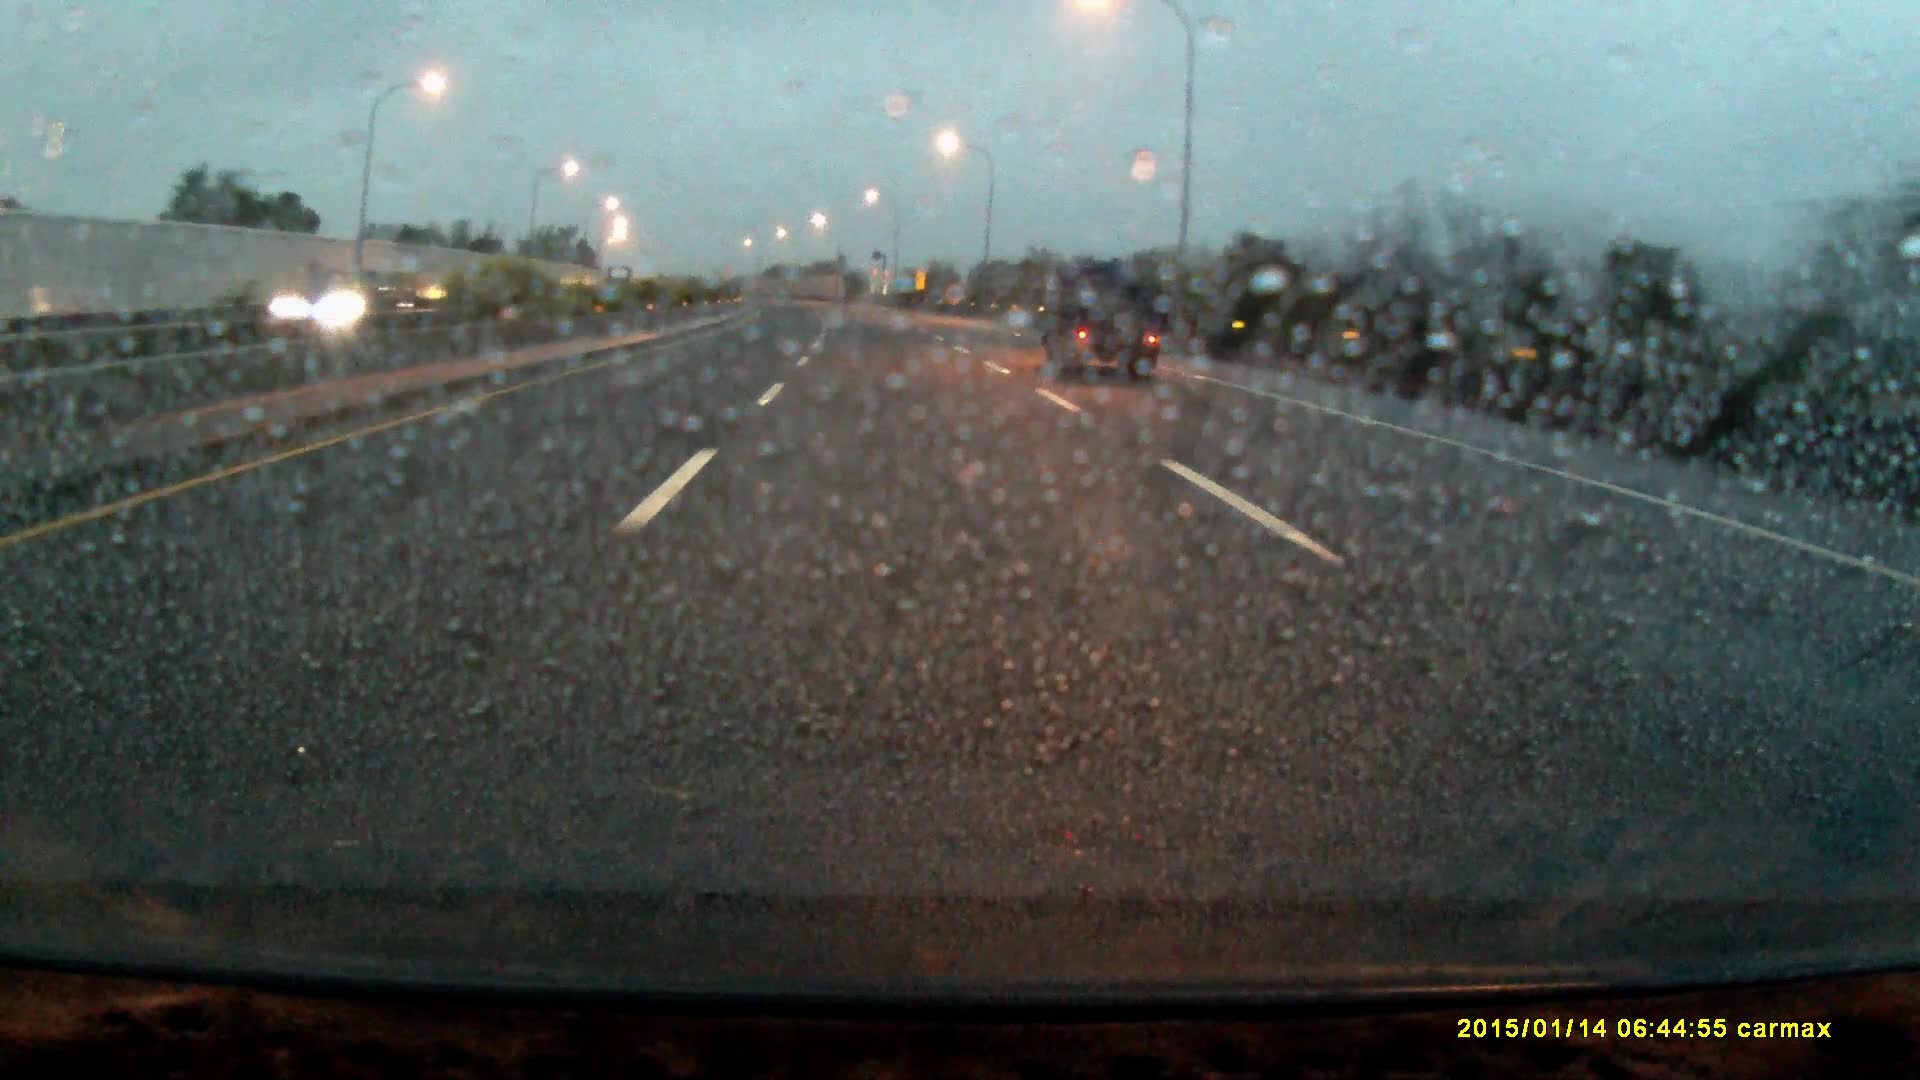vehicle: (1044, 266, 1162, 381), (255, 273, 386, 336), (609, 269, 633, 294)
